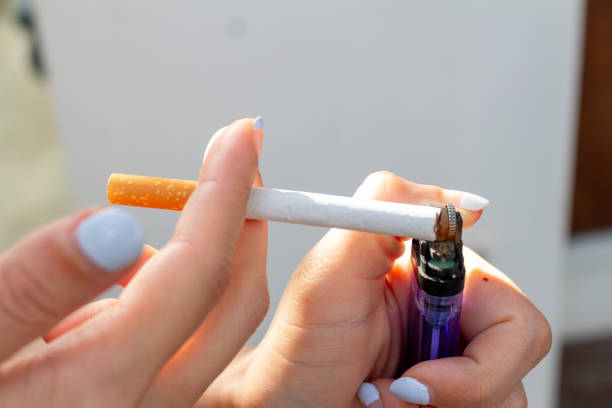cigarette: (105, 173, 451, 242)
